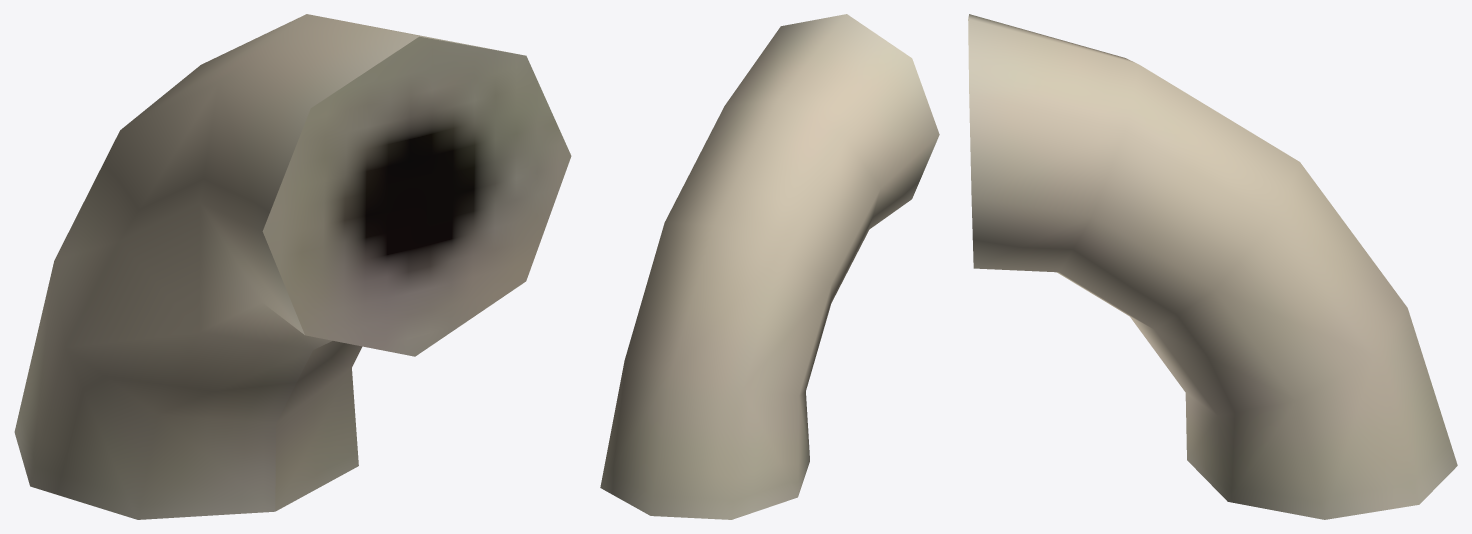
The picture shows the model from 3 angles, left to right: view 1: azimuth 30°, elevation 25°; view 2: azimuth 150°, elevation 25°; view 3: azimuth 270°, elevation 25°; orthographic projection. The views are drawn at different scales.
Visible parts, largest first — view 1: body0_model0_lod0_mesh0; view 2: body0_model0_lod0_mesh0; view 3: body0_model0_lod0_mesh0.
Boxes of the visible parts, x1,y1,x2,y2 form: body0_model0_lod0_mesh0: (14, 14, 571, 519); body0_model0_lod0_mesh0: (600, 14, 939, 519); body0_model0_lod0_mesh0: (968, 14, 1457, 519).
Size of the model in its own units: 4.13 by 7.51 by 7.46.
Materials: 1 (1 with a texture image).
